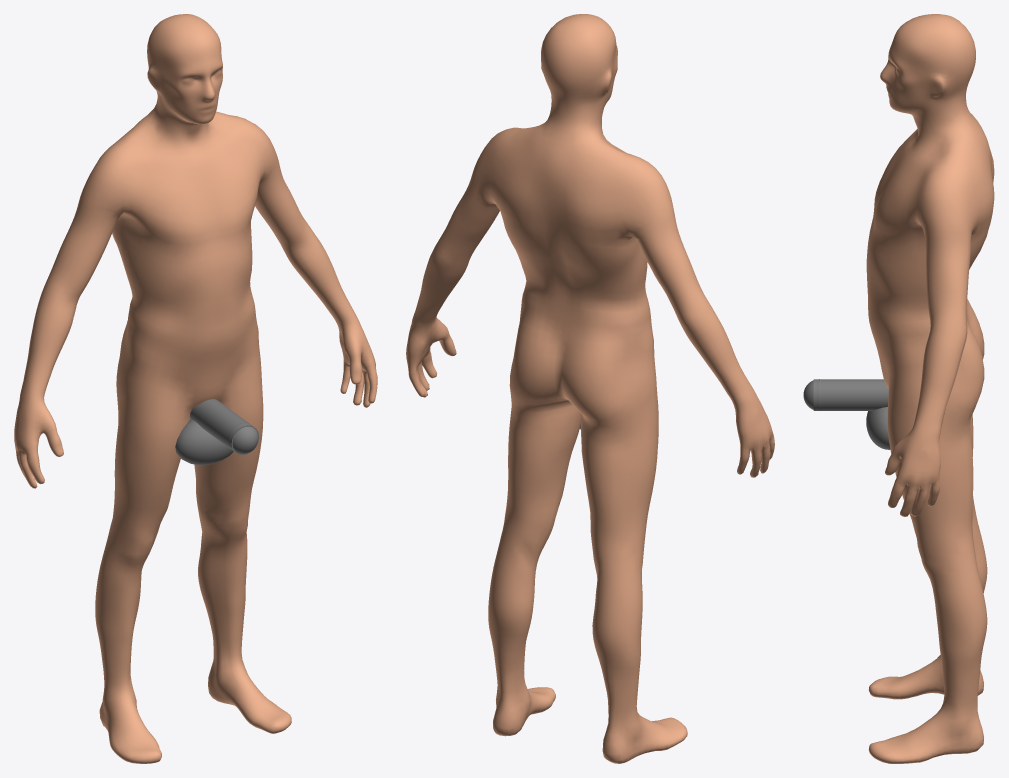
The model's file is chin.obj.
3 renders of one model, left to right at view 1: azimuth 30°, elevation 25°; view 2: azimuth 150°, elevation 25°; view 3: azimuth 270°, elevation 25°, orthographic.
Visible parts, largest first — view 1: HumanBody:humanBody, group1 pSphere2, group1 pCylinder2, group1 pSphere1; view 2: HumanBody:humanBody; view 3: HumanBody:humanBody, group1 pCylinder2, group1 pSphere2, group1 pSphere1.
Boxes of the visible parts, x1,y1,x2,y2 form: HumanBody:humanBody: (14,14,377,763); group1 pSphere2: (175,419,233,465); group1 pCylinder2: (190,399,259,454); group1 pSphere1: (228,422,258,454); HumanBody:humanBody: (406,14,774,763); HumanBody:humanBody: (866,14,994,763); group1 pCylinder2: (813,379,888,410); group1 pSphere2: (866,407,890,449); group1 pSphere1: (803,379,821,410).
Bounding box in the file's own units: 9.68 × 18.52 × 4.52.
